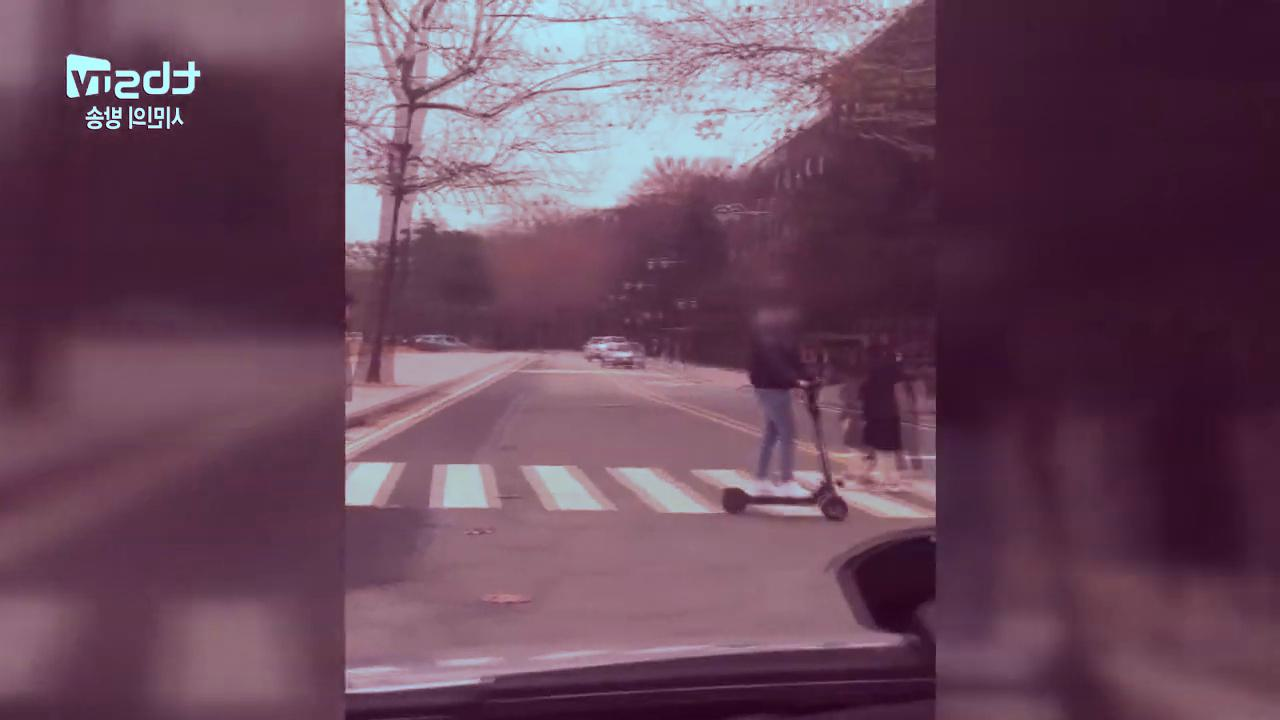nonhelmet: (716, 288, 850, 527)
